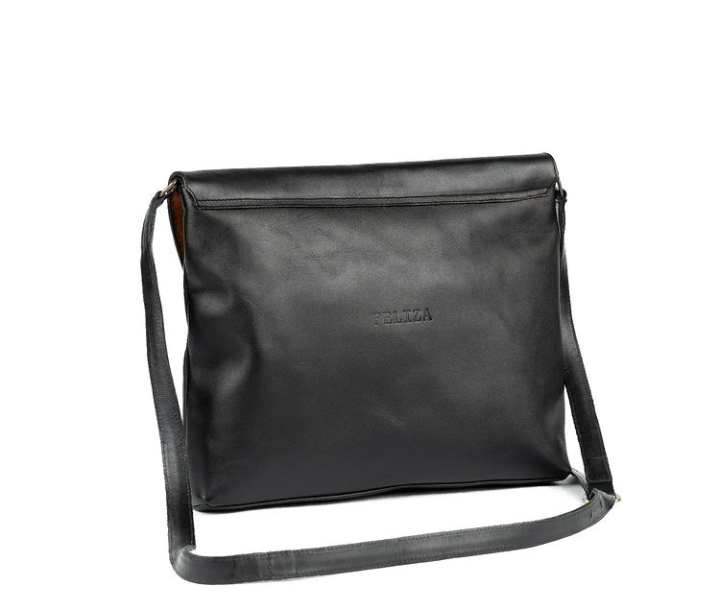cartera: (121, 144, 637, 595)
cuero: (269, 259, 353, 319)
